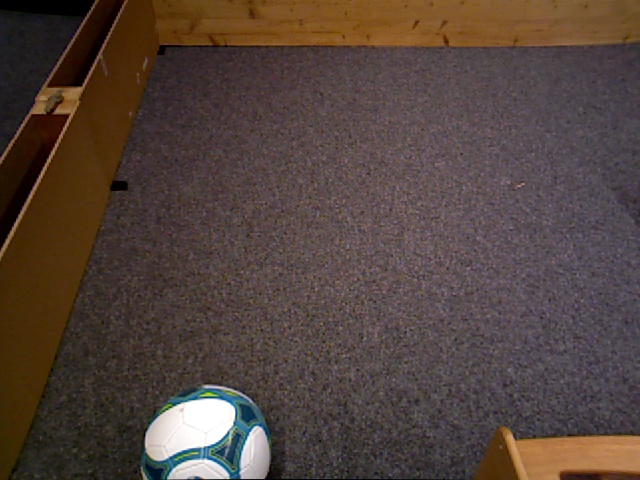kick: (139, 378, 270, 480)
